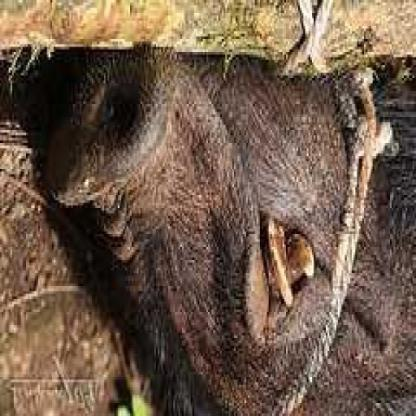boar: (54, 1, 415, 416)
